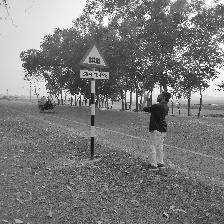Rail-crossing: (78, 44, 110, 80)
